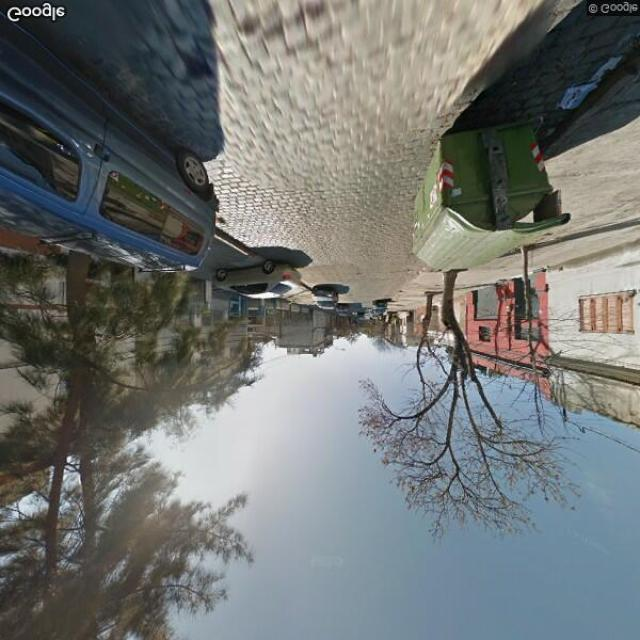garbage container: (409, 107, 580, 278)
